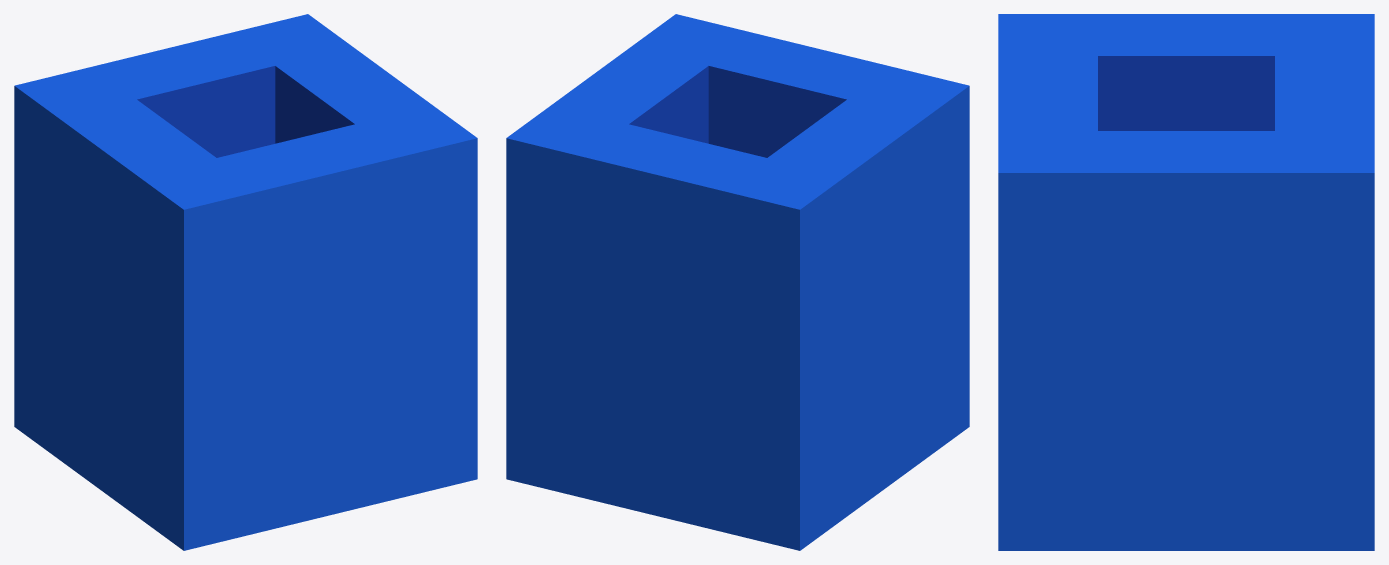
Rendered from cubeCube.fbx.
3 views of the same model, side by side, from view 1: azimuth 30°, elevation 25°; view 2: azimuth 150°, elevation 25°; view 3: azimuth 270°, elevation 25° (orthographic). The views are drawn at different scales.
Parts seen in each view (by area): view 1: cubeCube; view 2: cubeCube; view 3: cubeCube.
Boxes of the visible parts, left/top/right/bottom form: cubeCube: left=14, top=14, right=477, bottom=550; cubeCube: left=506, top=14, right=969, bottom=550; cubeCube: left=998, top=14, right=1374, bottom=550.
Size of the model in its own units: 425 by 471 by 425.
